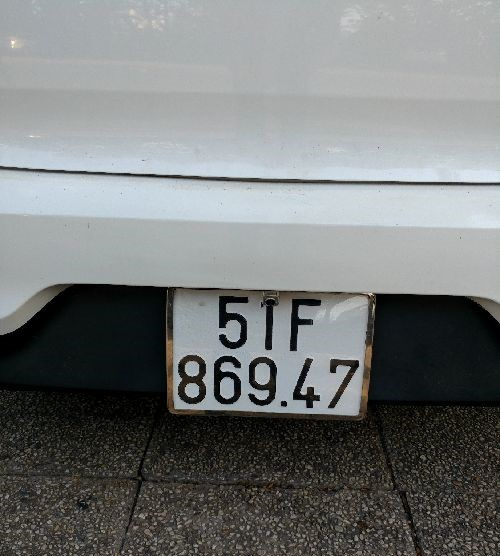number_plate: (155, 269, 371, 426)
